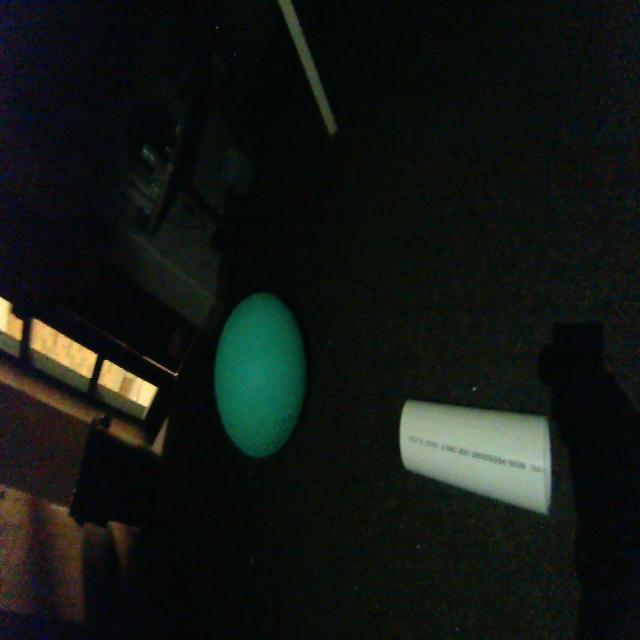algae: (210, 283, 309, 462)
coral: (399, 400, 552, 514)
